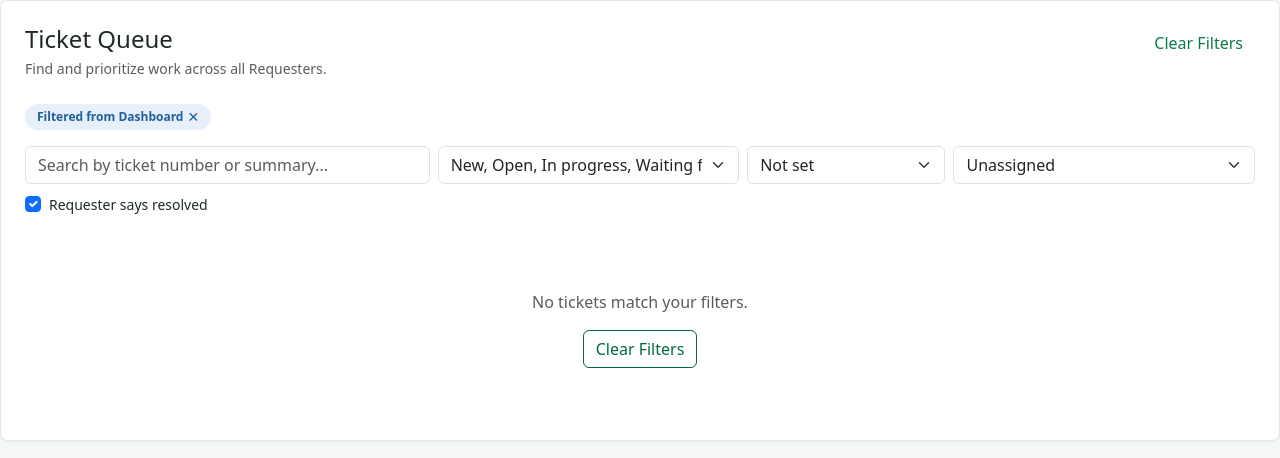
Scenario: Drill-down filters (UI-05) › UI-05: the Ticket Queue applies ownership, status list, priority NONE and requesterResolved; removing the chip clears them
Expected: the checkbox labelled "Requester says resolved" is checked, [25, 196, 41, 212]
Click the button named "Remove filter: Filtered from Dashboard": (193, 117) [188, 110, 199, 124]
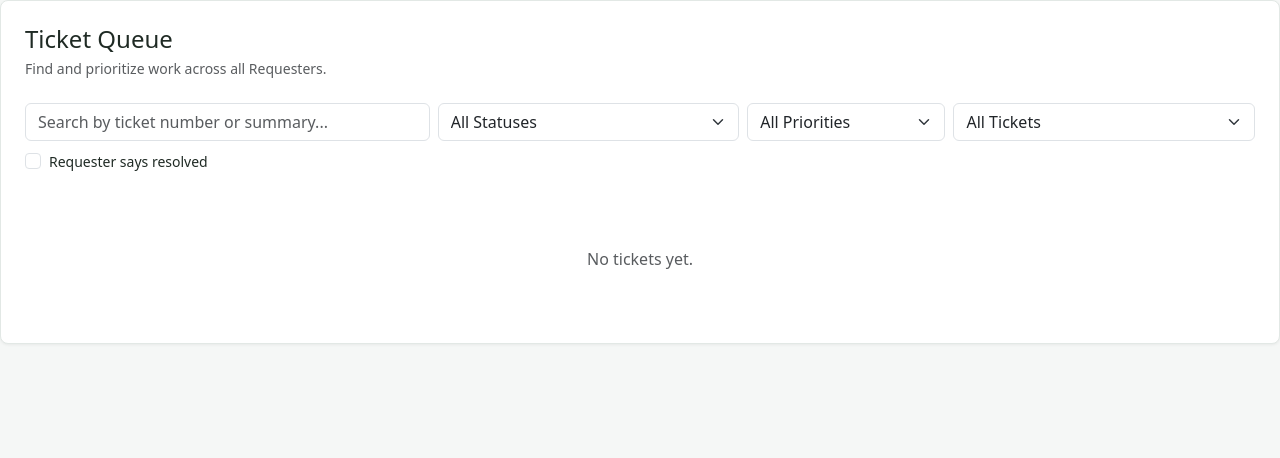
Now the text "Filtered from Dashboard" is gone
